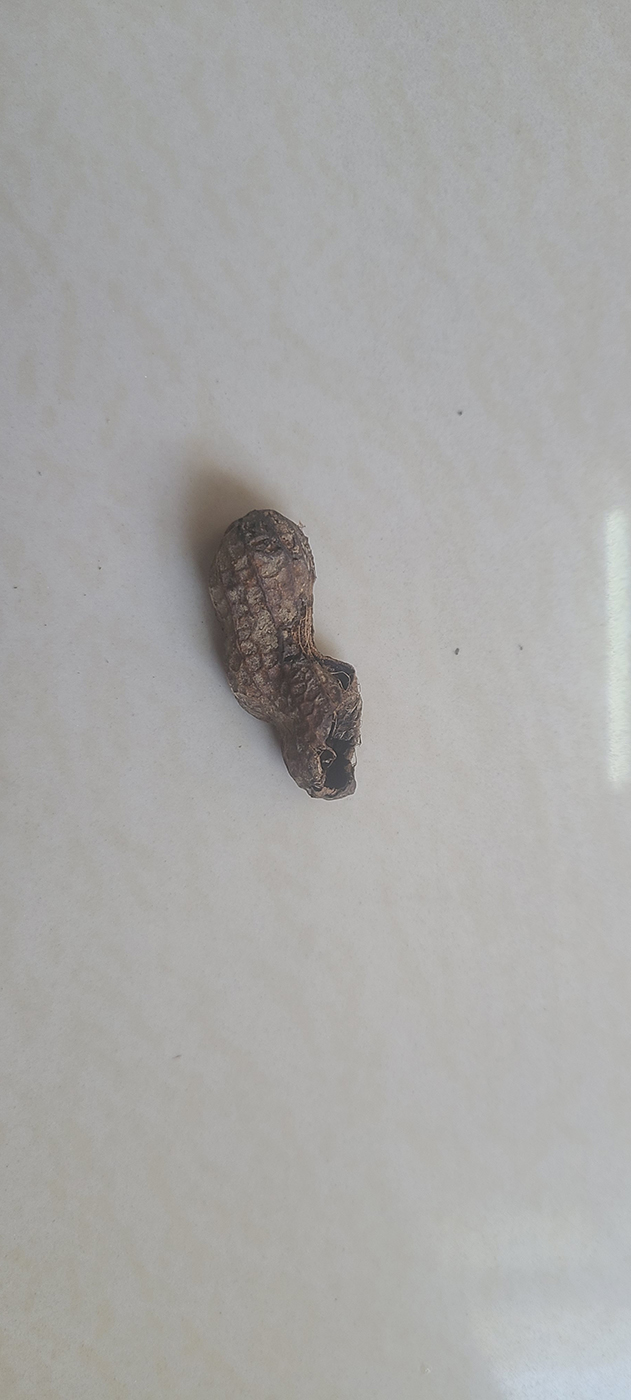l: (211, 510, 365, 802)
